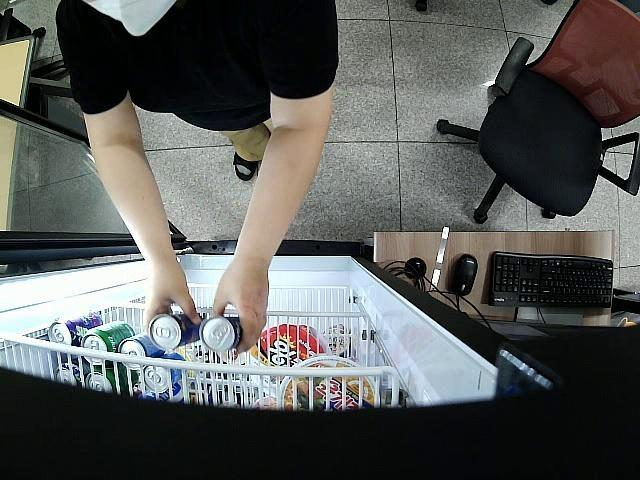16_hot6: (148, 313, 203, 351), (200, 314, 244, 352)
